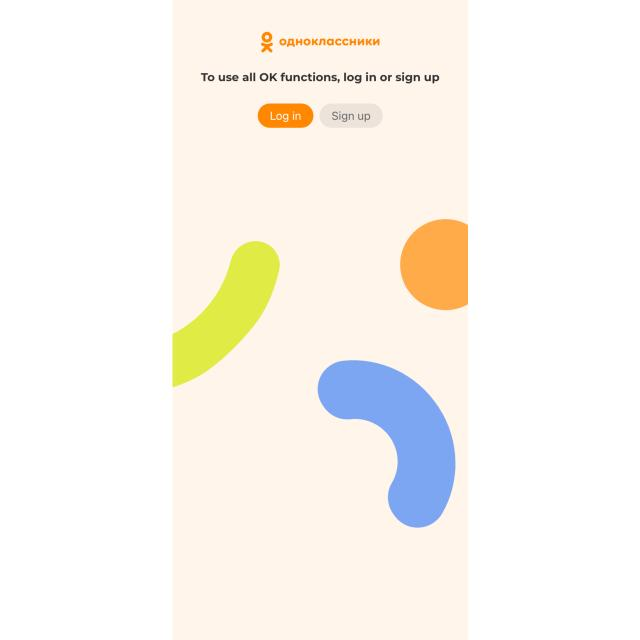logo: (253, 27, 386, 62)
